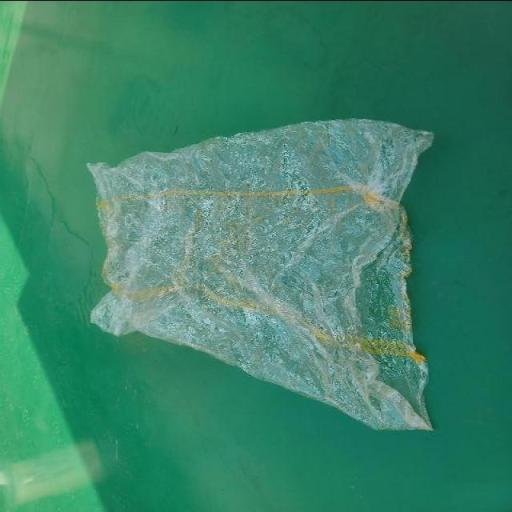plastic-bag: (84, 116, 436, 434)
